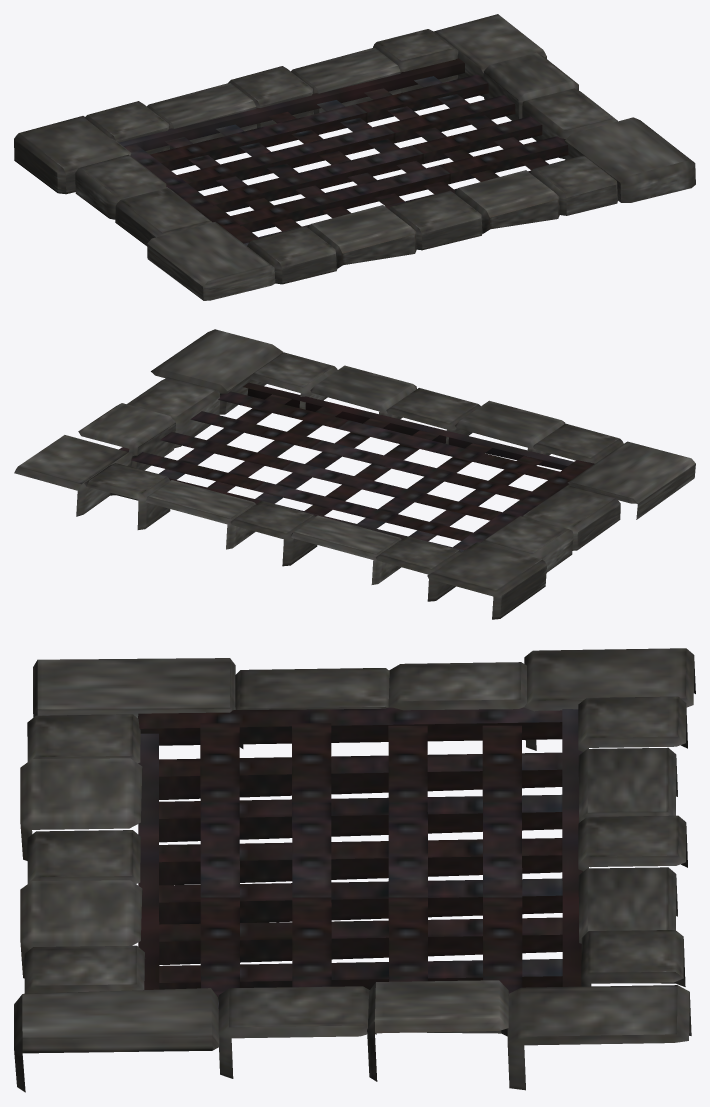
File: blsd_dilou_01.FBX
3 views of the same model, one above another, from view 1: azimuth 30°, elevation 25°; view 2: azimuth 150°, elevation 25°; view 3: azimuth 270°, elevation 25° (orthographic). The views are drawn at different scales.
Parts seen in each view (by area): view 1: blsd_dilou_01; view 2: blsd_dilou_01; view 3: blsd_dilou_01.
Part boxes in pixels (x1,y1,x2,y2): blsd_dilou_01: [14, 14, 695, 300]; blsd_dilou_01: [14, 329, 695, 619]; blsd_dilou_01: [14, 648, 695, 1092].
Bounding box in the file's own units: 917 × 61.96 × 653.
